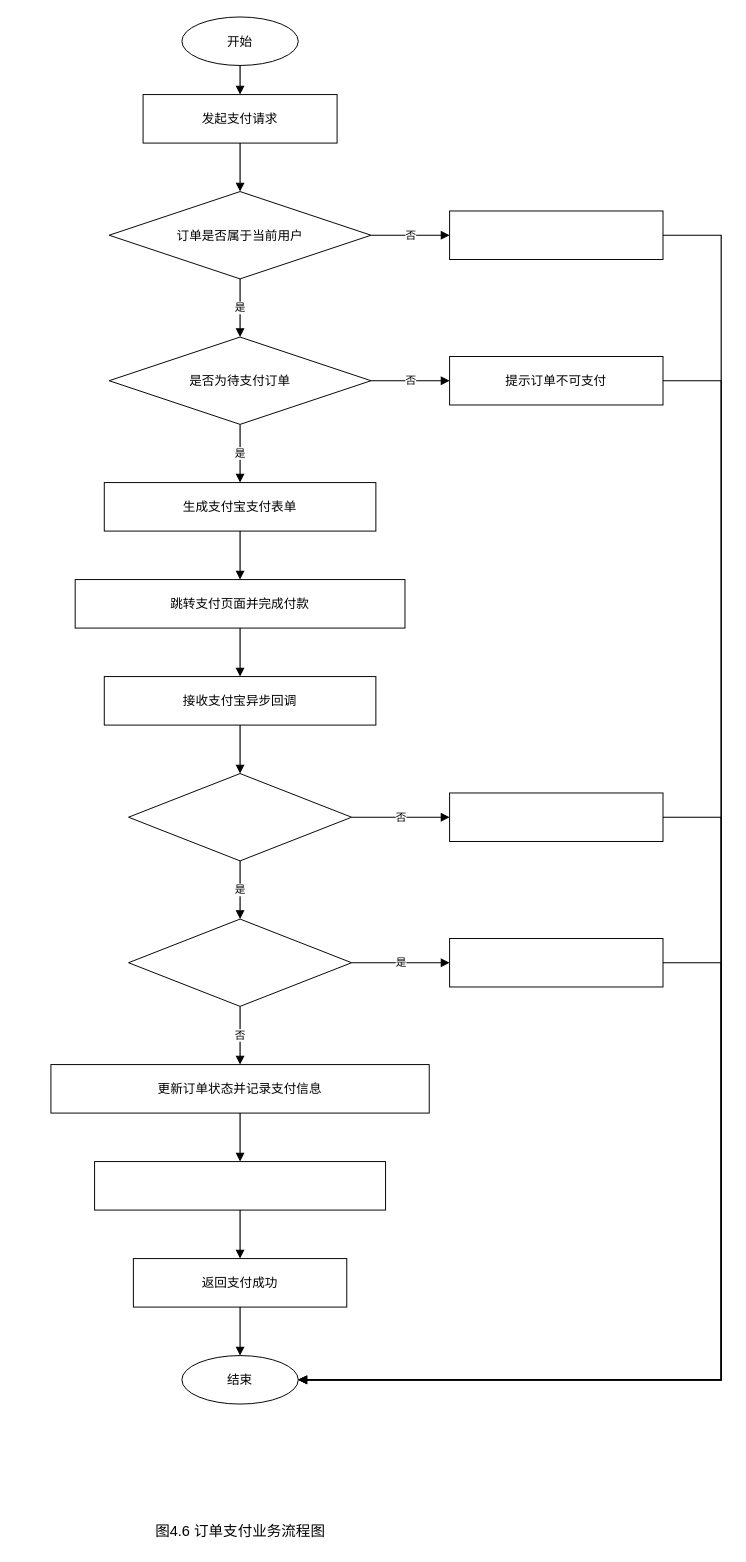
Some shapes in this 746 by 1562 pixel diagram are drawn without their labels. The centre of each missing label's shape, as x and y in pixels:
回调签名是否有效: the point at 240,817
扣减库存，保证数据一致: the point at 240,1185
是否已处理该订单: the point at 240,962
直接返回成功: the point at 556,962
记录异常并结束: the point at 556,816
返回支付失败: the point at 556,234
